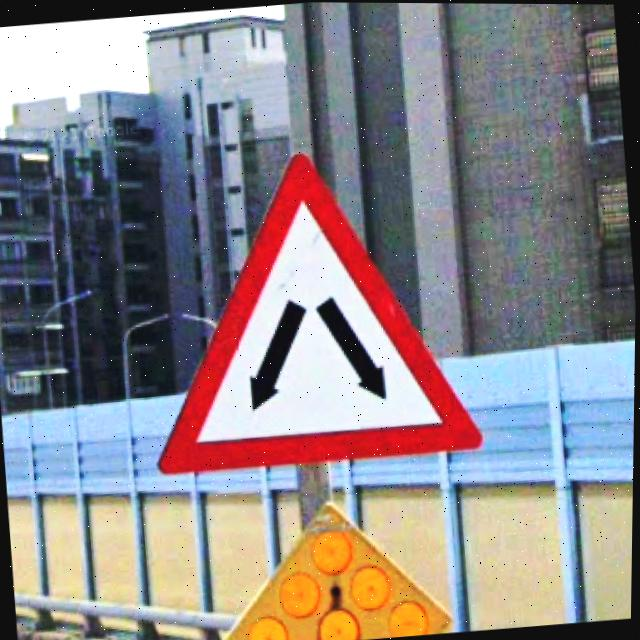diverge: (129, 134, 488, 480)
